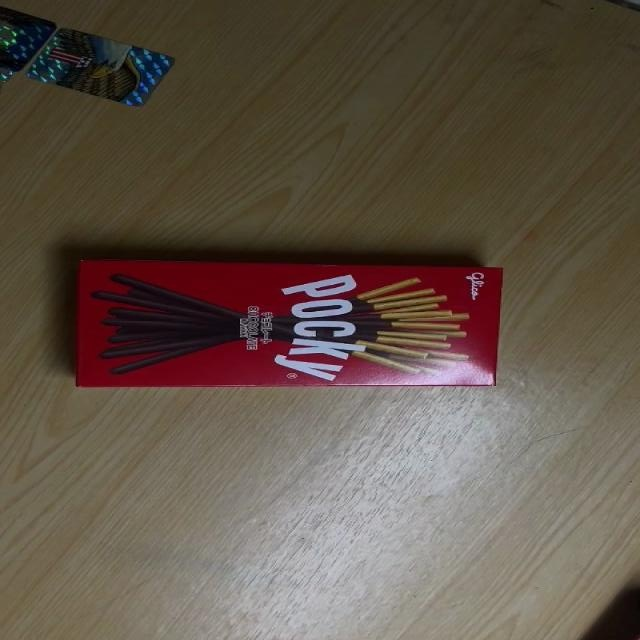Pocky: (77, 257, 505, 391)
